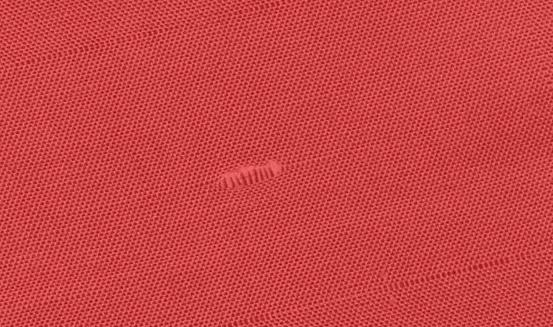slub: (196, 159, 292, 197)
